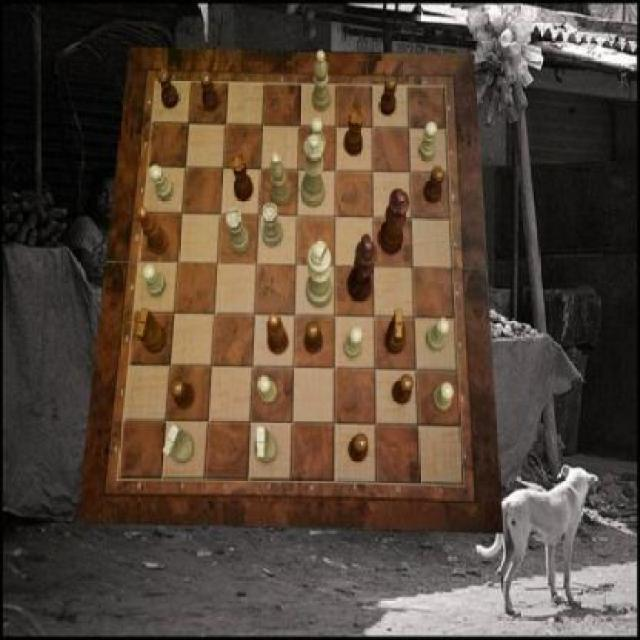bishop: (138, 207, 170, 256), (266, 314, 289, 355)
black-bishop: (348, 234, 378, 301)
black-king: (136, 308, 166, 353), (385, 309, 407, 355)
black-knight: (157, 68, 179, 108), (424, 166, 446, 202), (200, 71, 219, 112), (171, 380, 195, 411), (392, 374, 415, 404), (304, 322, 324, 356), (379, 77, 396, 117), (348, 434, 368, 461)
black-pawn: (378, 190, 411, 256)
black-queen: (232, 154, 255, 201), (344, 108, 364, 157)
black-rook: (270, 152, 292, 206), (313, 51, 332, 112)
white-bishop: (306, 240, 332, 308)
white-king: (161, 425, 194, 463), (256, 426, 278, 464)
white-knight: (150, 164, 174, 200), (426, 317, 450, 351), (143, 264, 166, 298), (432, 383, 455, 412), (419, 123, 436, 162), (344, 326, 364, 359), (310, 117, 326, 155), (257, 376, 277, 404)
white-pawn: (300, 134, 325, 208)
white-queen: (226, 208, 250, 253), (262, 201, 282, 247)
